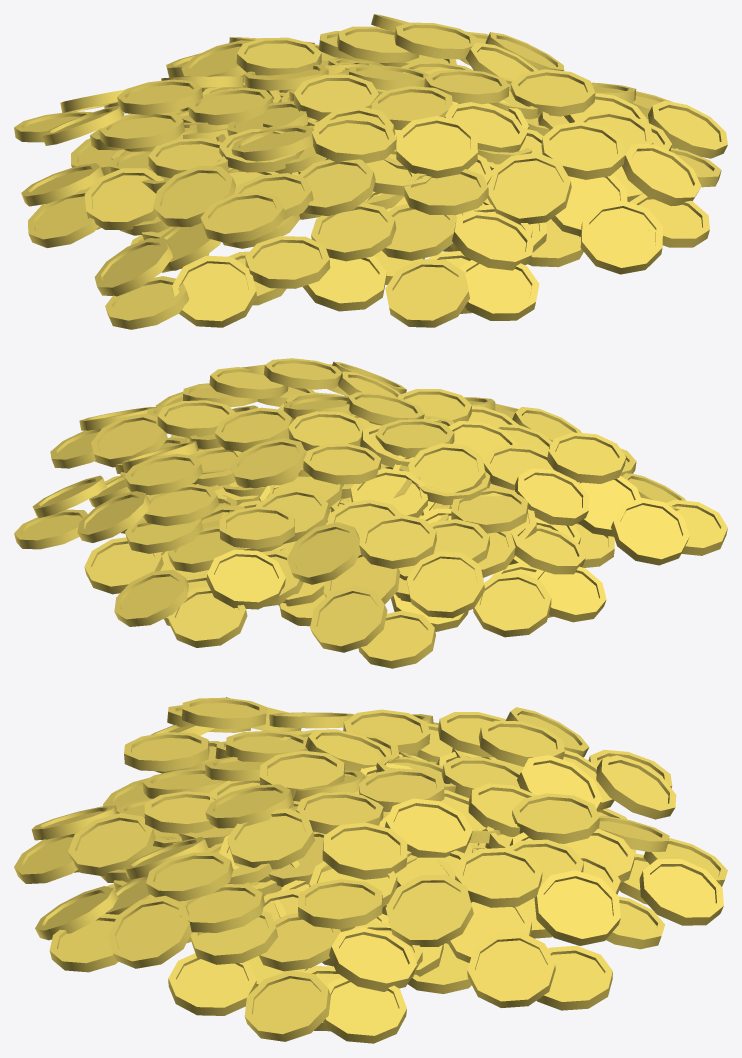
The model's file is Money_Gold_Piles.fbx.
The picture shows the model from 3 angles, top to bottom: view 1: azimuth 30°, elevation 25°; view 2: azimuth 150°, elevation 25°; view 3: azimuth 270°, elevation 25°; orthographic projection. The views are drawn at different scales.
Parts seen in each view (by area): view 1: Gold_Pile_Big, Gold_Pile_Medium; view 2: Gold_Pile_Big, Gold_Pile_Medium; view 3: Gold_Pile_Big, Gold_Pile_Medium.
Part boxes in pixels (<box>): Gold_Pile_Big: <box>14,14,727,329</box>; Gold_Pile_Medium: <box>120,58,532,215</box>; Gold_Pile_Big: <box>14,358,727,668</box>; Gold_Pile_Medium: <box>147,414,536,550</box>; Gold_Pile_Big: <box>14,697,727,1043</box>; Gold_Pile_Medium: <box>153,729,502,882</box>.
Bounding box in the file's own units: 5.28 × 0.7635 × 4.85.
